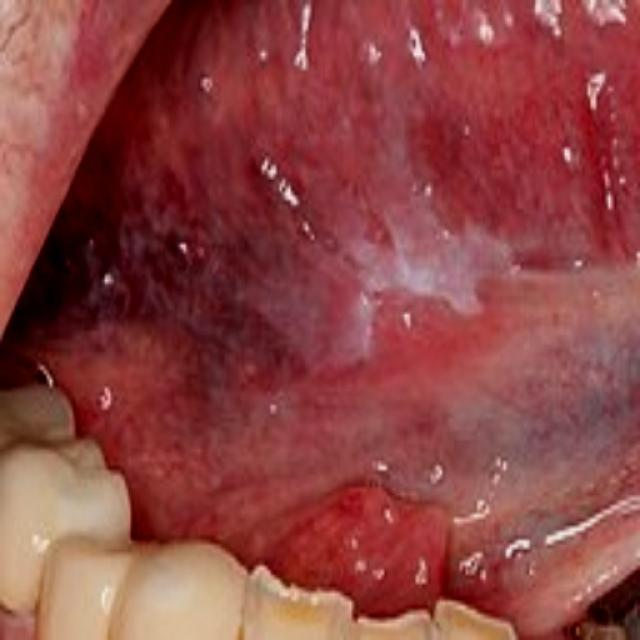leukoplakia-detection: (294, 166, 538, 391)
processing_area: (39, 0, 639, 614)
